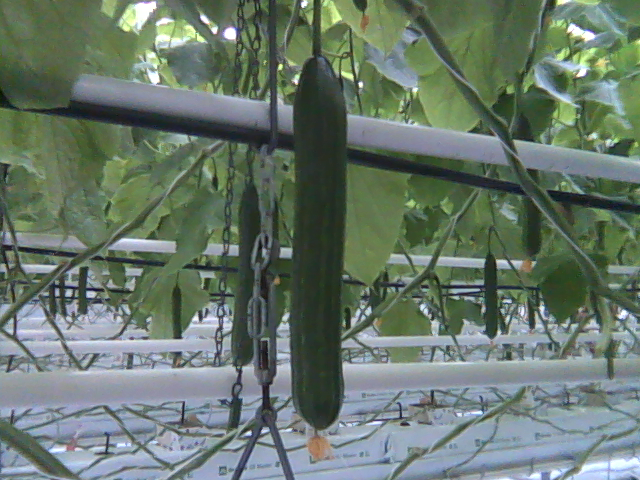concombre: (289, 48, 349, 464)
